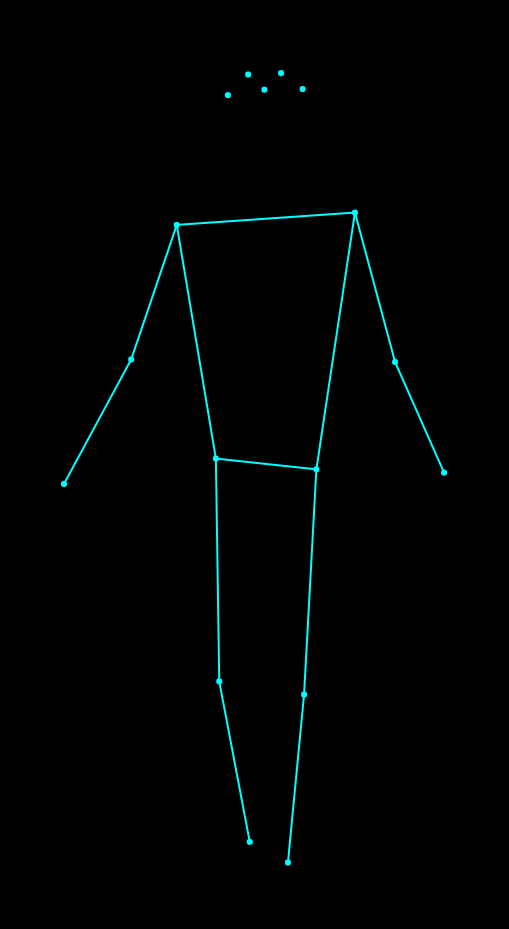mountain: (55, 53, 454, 883)
